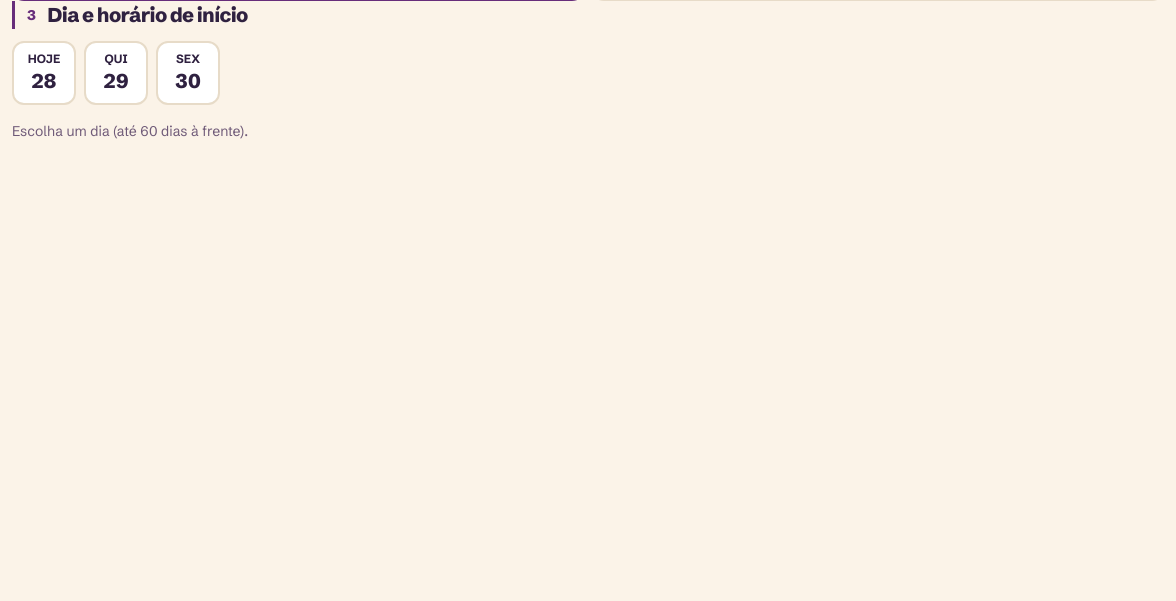
it: CartFlow: um logo após o outro › erro sem detalhe usa a mensagem padrão
Click the button with aria-label "Dia 29/10". click: (116, 73)
box: x1=84 y1=41 x2=148 y2=105
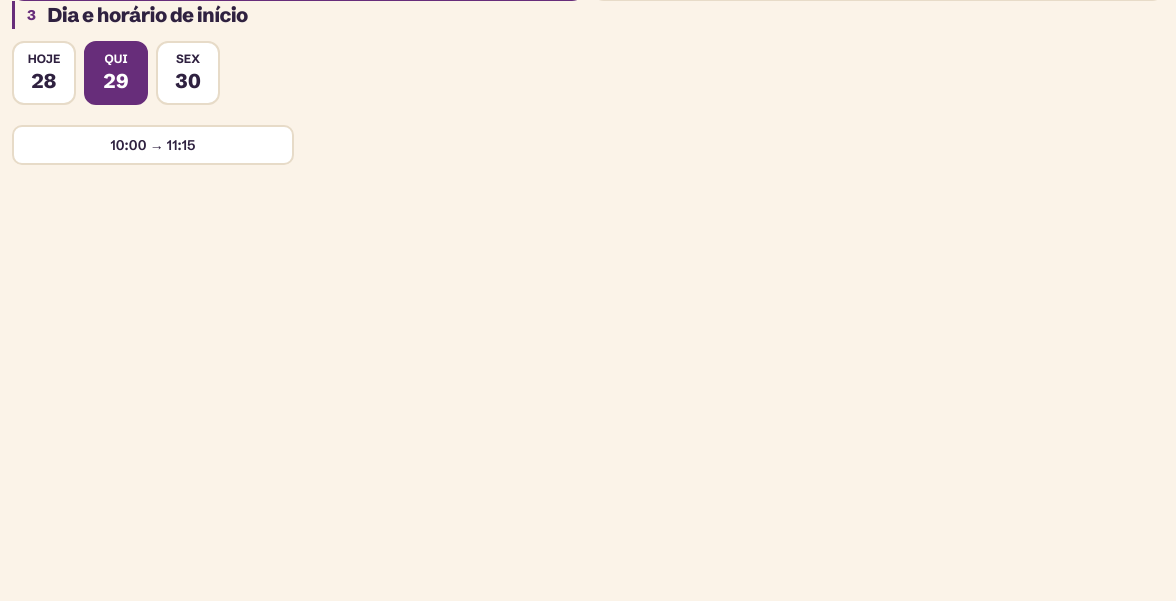
Click the button named "Começar às 10:00". click: (153, 145)
box: x1=12 y1=125 x2=294 y2=165
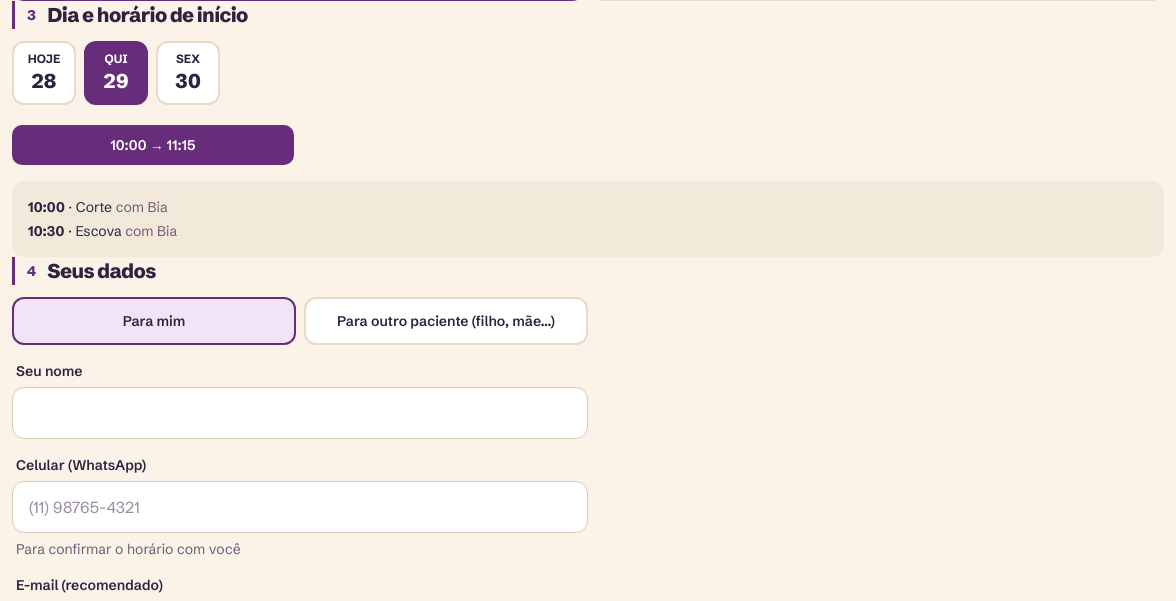
Type "Ana" into the field labelled "Seu nome". click: (300, 413)
box: x1=29 y1=388 x2=571 y2=438
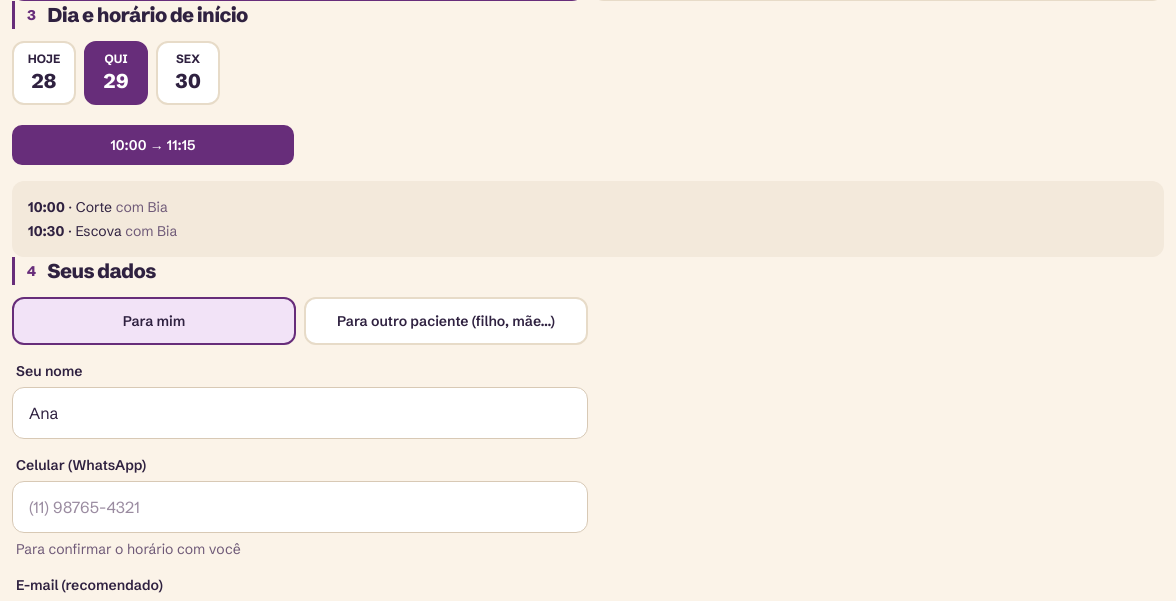
Type "11988887777" into the field labelled "Celular (WhatsApp)". click: (300, 507)
box: x1=29 y1=482 x2=571 y2=532
(page scrolled)
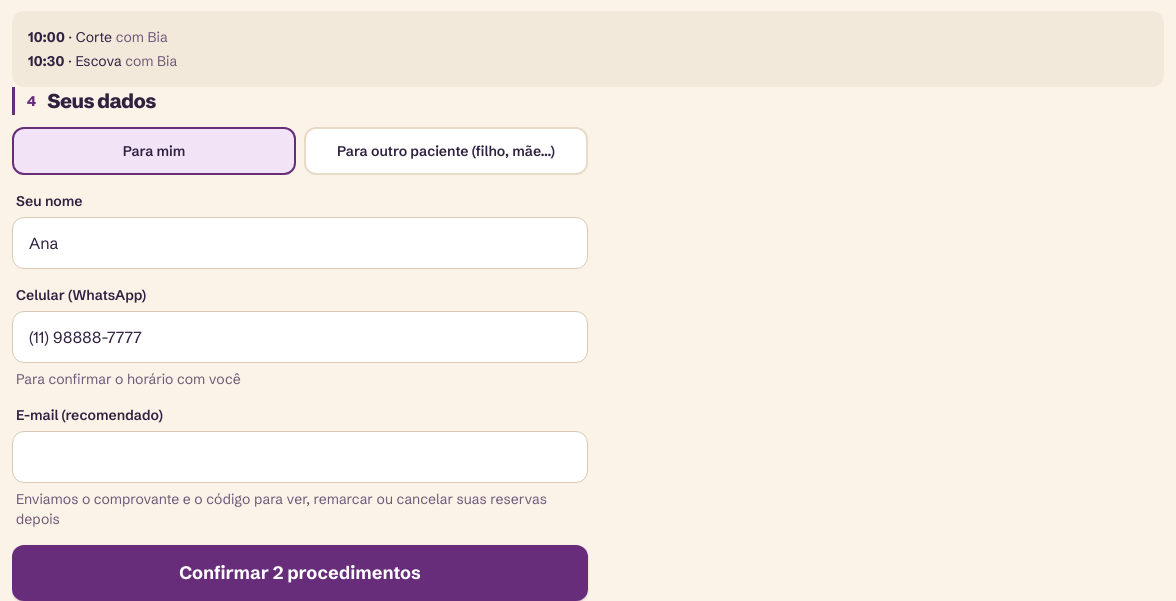
Click the button "Confirmar 2 procedimentos". click: (300, 573)
box: x1=12 y1=545 x2=588 y2=600
(page scrolled)
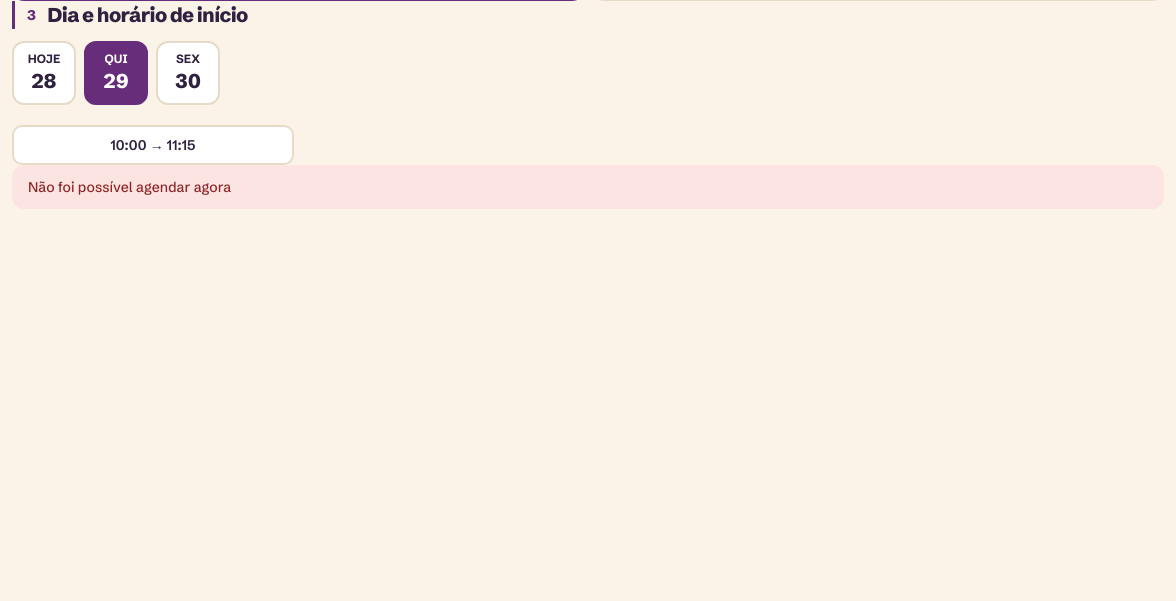
Expected: the message reads "Não foi possível agendar agora", x1=28 y1=178 x2=231 y2=196
